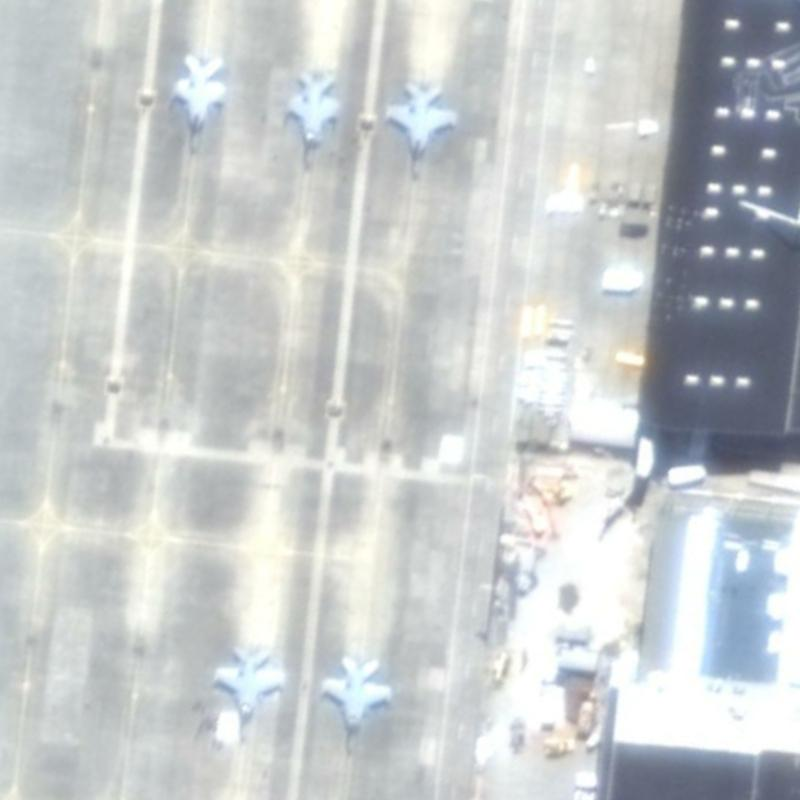A16: (310, 651, 398, 757), (207, 638, 290, 749), (382, 74, 461, 183), (274, 57, 348, 173), (169, 45, 228, 156)
